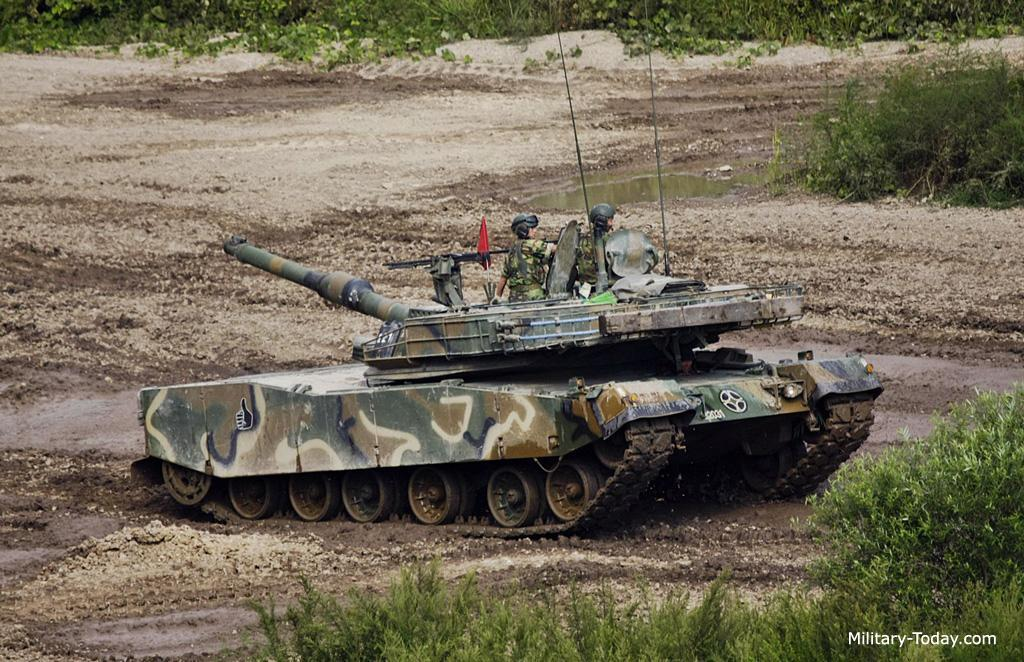person: (490, 212, 558, 311), (567, 194, 629, 301)
tank: (129, 226, 889, 542)
